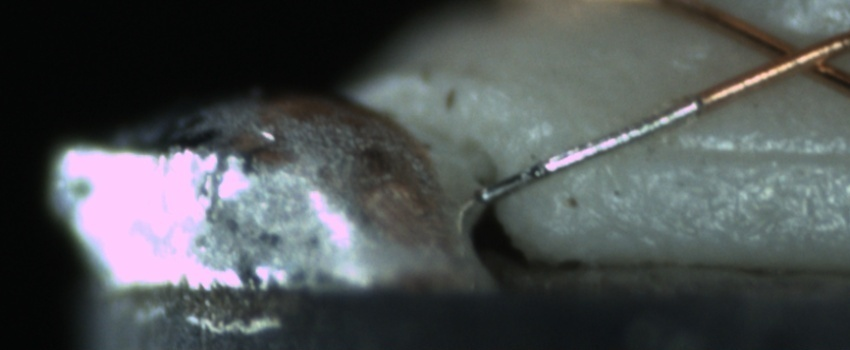CL: (741, 24, 844, 88)
DL: (633, 122, 850, 185)
TS: (477, 101, 687, 203)
